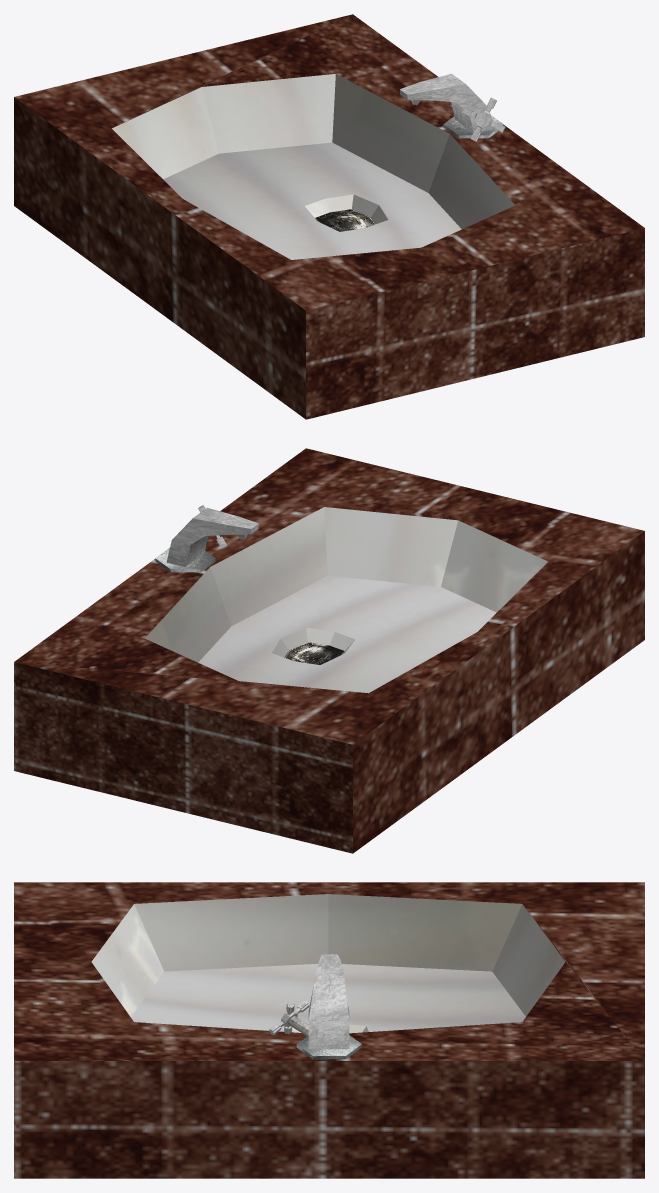
File: bath tap.FBX
3 renders of one model, top to bottom at view 1: azimuth 30°, elevation 25°; view 2: azimuth 150°, elevation 25°; view 3: azimuth 270°, elevation 25°, orthographic. The views are drawn at different scales.
Parts seen in each view (by area): view 1: Object013, Box001, Box002, Object014, Cylinder003; view 2: Object013, Box001, Box002, Object014, Cylinder001; view 3: Object013, Box001, Box002, Cylinder001, Cylinder003.
Part boxes in pixels (left/top/right/bottom): Object013: left=14, top=14, right=644, bottom=419; Box001: left=112, top=74, right=515, bottom=259; Box002: left=399, top=73, right=492, bottom=132; Object014: left=315, top=209, right=375, bottom=231; Cylinder003: left=462, top=97, right=505, bottom=141; Object013: left=14, top=448, right=644, bottom=853; Box001: left=145, top=507, right=547, bottom=693; Box002: left=166, top=508, right=258, bottom=567; Object014: left=284, top=642, right=344, bottom=664; Cylinder001: left=155, top=547, right=215, bottom=572; Object013: left=14, top=882, right=644, bottom=1178; Box001: left=91, top=894, right=565, bottom=1033; Box002: left=308, top=954, right=349, bottom=1049; Cylinder001: left=296, top=1035, right=361, bottom=1059; Cylinder003: left=269, top=1001, right=309, bottom=1034.
Bounding box in the file's own units: 3195 × 1454 × 4770.
6 materials, 6 textured.
